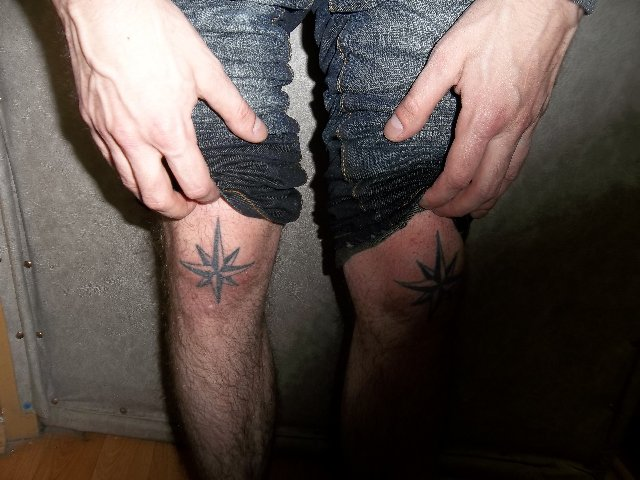tatu4_zvezda: (180, 221, 254, 301), (393, 231, 463, 309)
